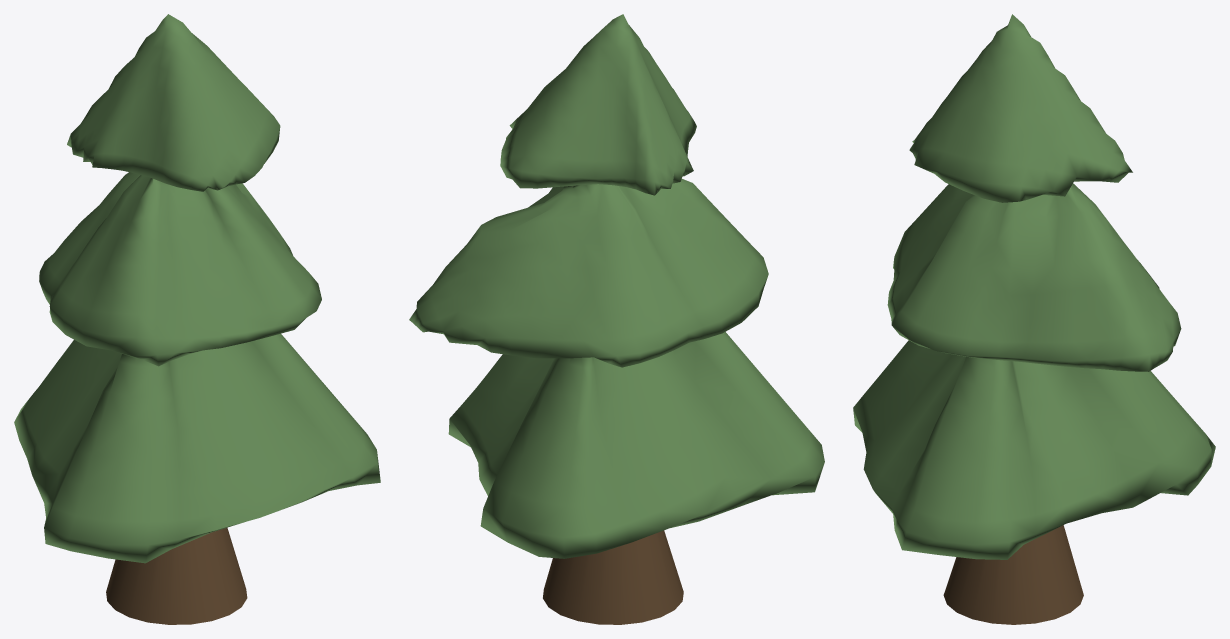
Rendered from Tree_Project_Customer.fbx.
The picture shows the model from 3 angles, left to right: view 1: azimuth 30°, elevation 25°; view 2: azimuth 150°, elevation 25°; view 3: azimuth 270°, elevation 25°; orthographic projection.
Parts seen in each view (by area): view 1: pCylinder1, pCylinder2; view 2: pCylinder1, pCylinder2; view 3: pCylinder1, pCylinder2.
Boxes of the visible parts, box(x1,y1,x2,y2) form: pCylinder1: box(14, 14, 380, 563); pCylinder2: box(106, 527, 247, 624); pCylinder1: box(409, 14, 824, 558); pCylinder2: box(543, 530, 683, 624); pCylinder1: box(853, 14, 1215, 559); pCylinder2: box(943, 525, 1083, 624).
Bounding box in the file's own units: 2.49 × 4.11 × 2.34.
